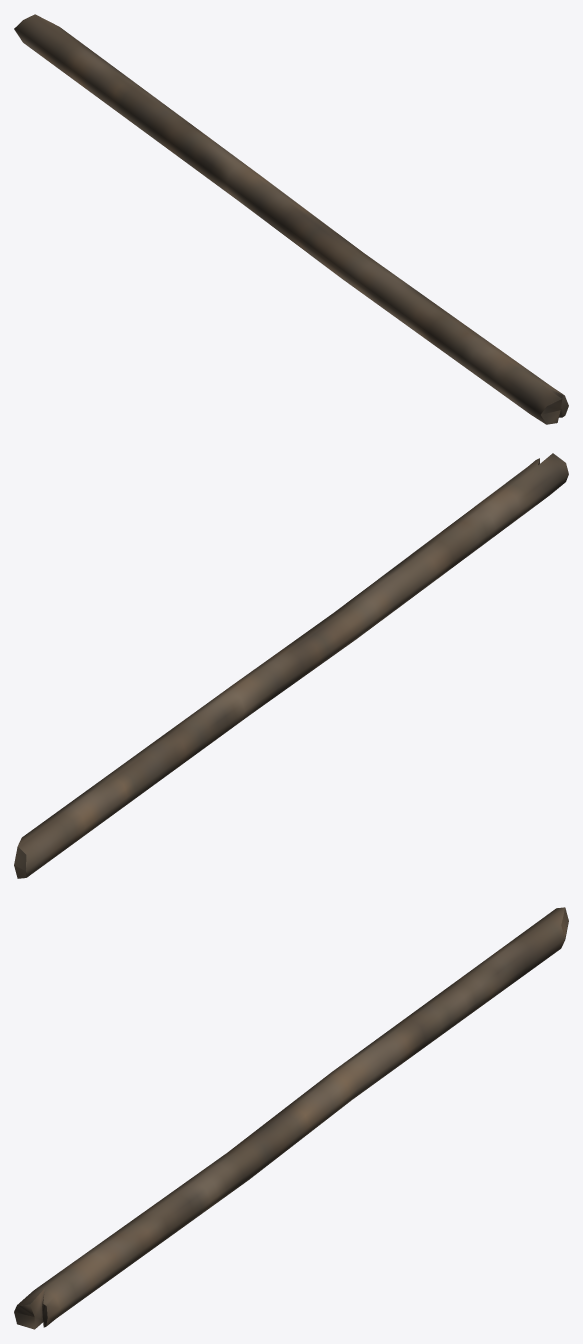
File: Planche7.glb
The picture shows the model from 3 angles, top to bottom: view 1: azimuth 30°, elevation 25°; view 2: azimuth 150°, elevation 25°; view 3: azimuth 330°, elevation 25°; orthographic projection. The views are drawn at different scales.
Visible parts, largest first — view 1: post_01_Planks_SHD_0; view 2: post_01_Planks_SHD_0; view 3: post_01_Planks_SHD_0.
Part boxes in pixels (box(x1,y1,x2,y2)): post_01_Planks_SHD_0: box(14, 14, 568, 424); post_01_Planks_SHD_0: box(14, 453, 568, 878); post_01_Planks_SHD_0: box(14, 907, 568, 1329).
Bounding box in the file's own units: 0.1132 × 0.1191 × 3.38.
Materials: 1 (1 with a texture image).
